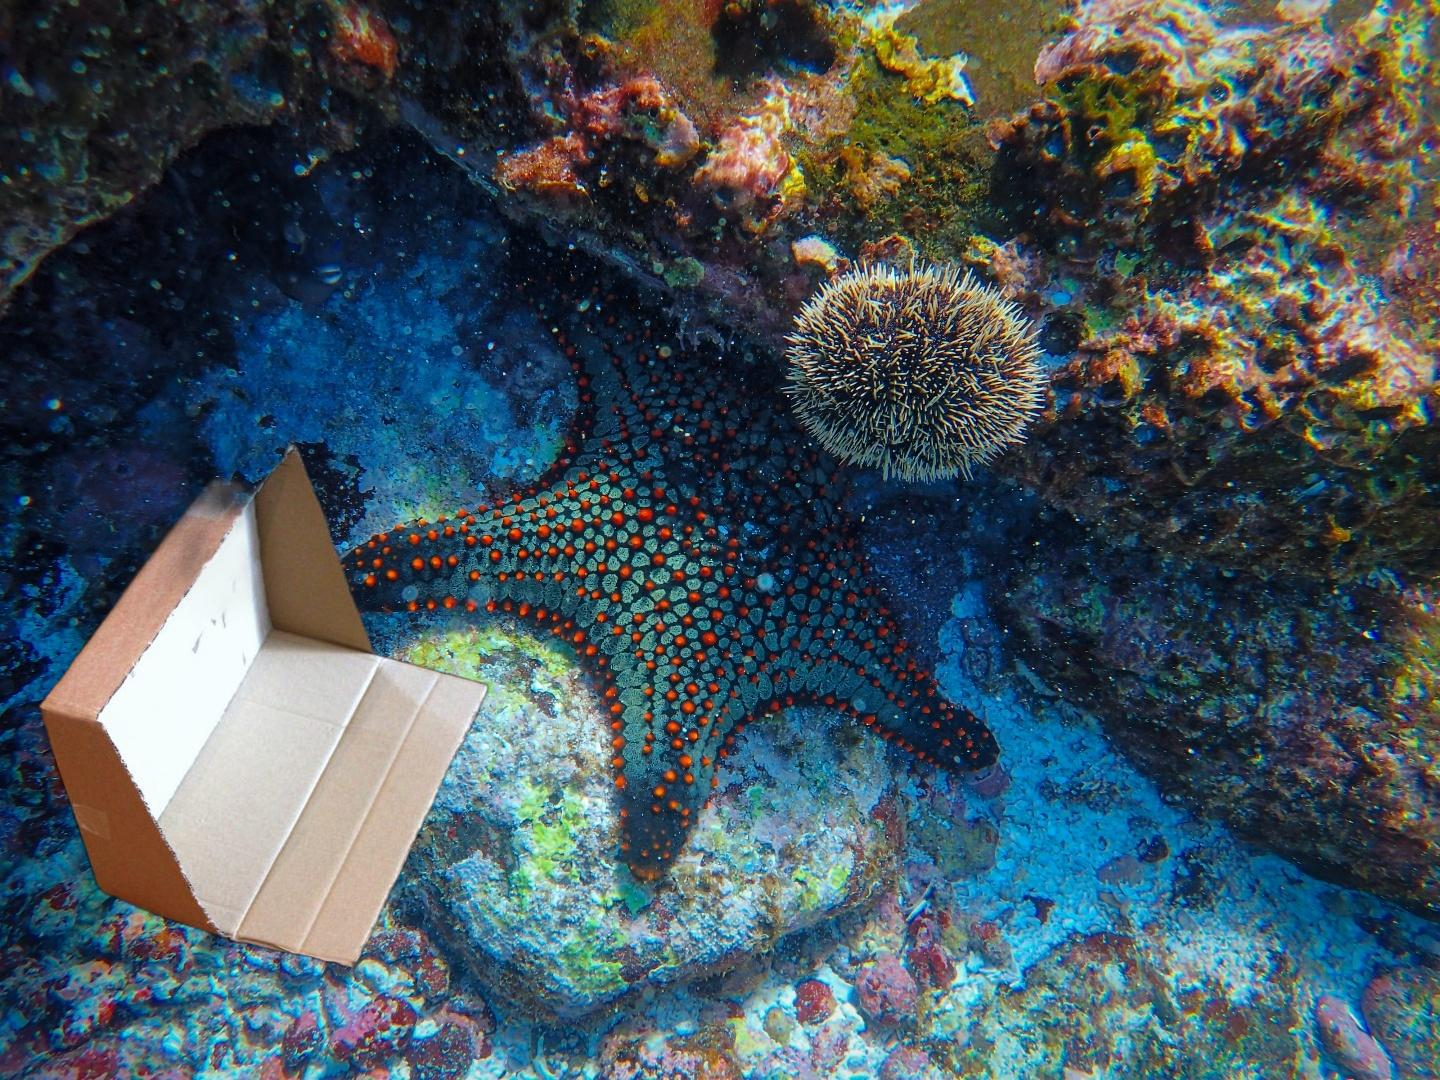trashbox-cardboard: (32, 425, 494, 973)
